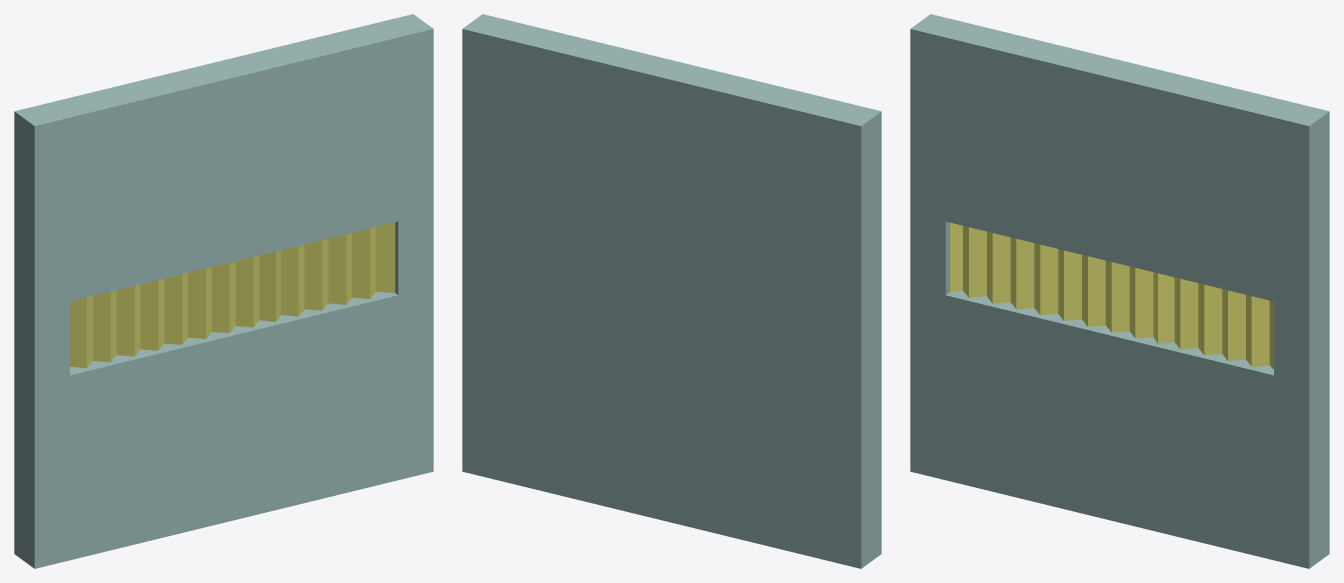
File: BWallCorner.fbx
3 views of the same model, side by side, from view 1: azimuth 30°, elevation 25°; view 2: azimuth 150°, elevation 25°; view 3: azimuth 330°, elevation 25° (orthographic).
Visible parts, largest first — view 1: BWallCorner; view 2: BWallCorner; view 3: BWallCorner.
Boxes of the visible parts, x1,y1,x2,y2 form: BWallCorner: (14,14,433,568); BWallCorner: (462,14,881,568); BWallCorner: (910,14,1329,568).
Bounding box in the file's own units: 566 × 600 × 50.
